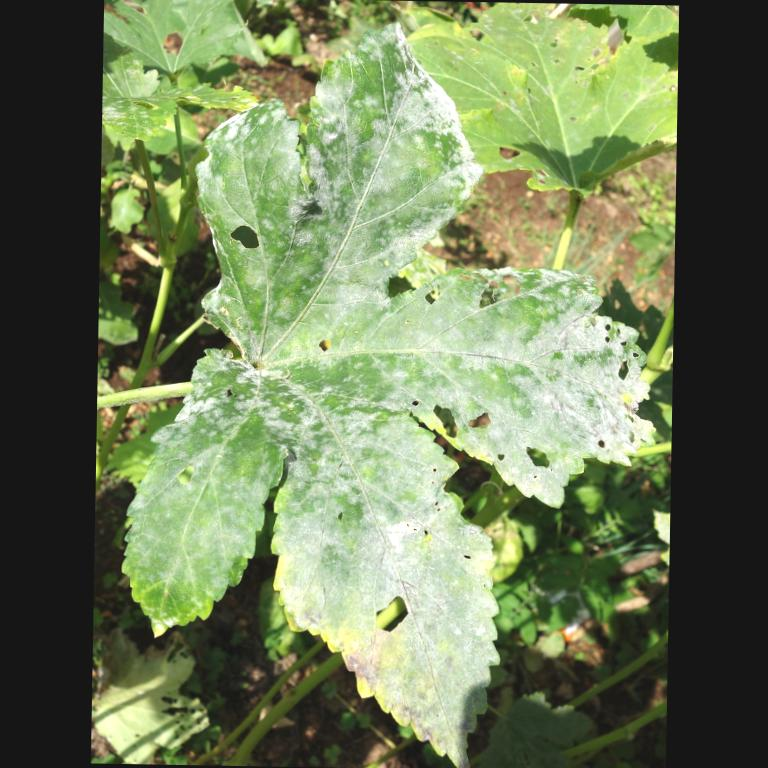powdery-mildew: (303, 378, 433, 526), (481, 320, 625, 451), (336, 94, 448, 212)
